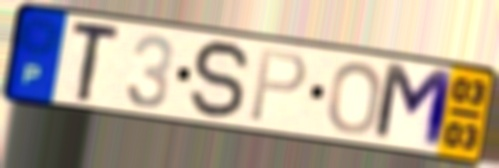3: (125, 31, 176, 110)
M: (370, 59, 458, 153)
O: (325, 59, 385, 137)
P: (246, 47, 310, 125)
S: (187, 38, 253, 122)
T: (68, 21, 125, 105)
